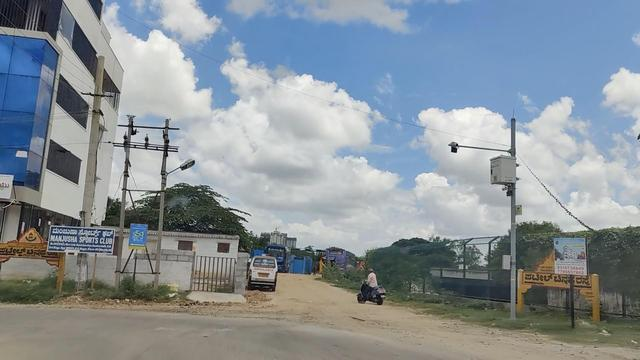LMV: (248, 257, 278, 286), (357, 272, 384, 302)
